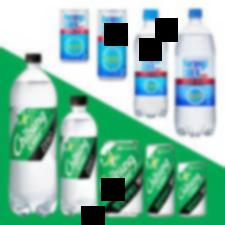chilsungcider_zero: (144, 143, 176, 217)
narangdcider: (95, 8, 128, 83)
